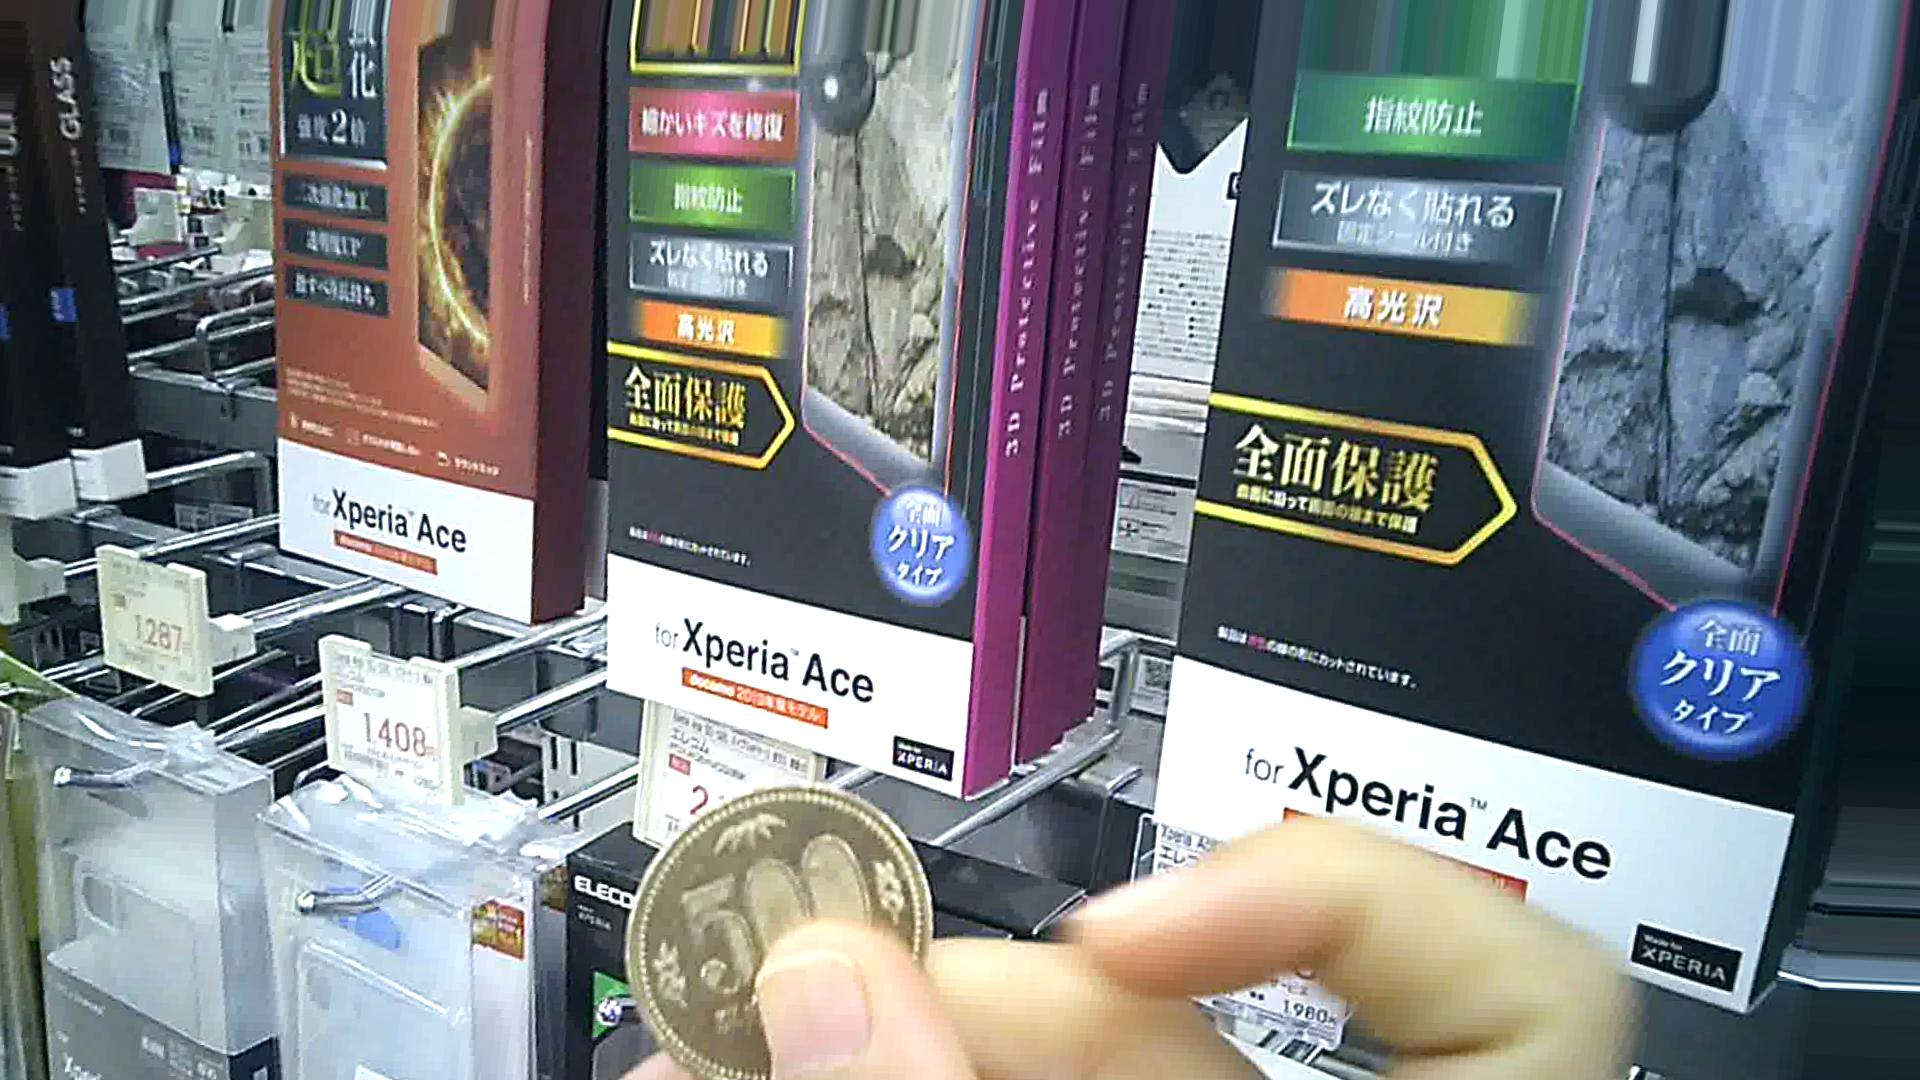500 Yen: (609, 778, 940, 1079)
